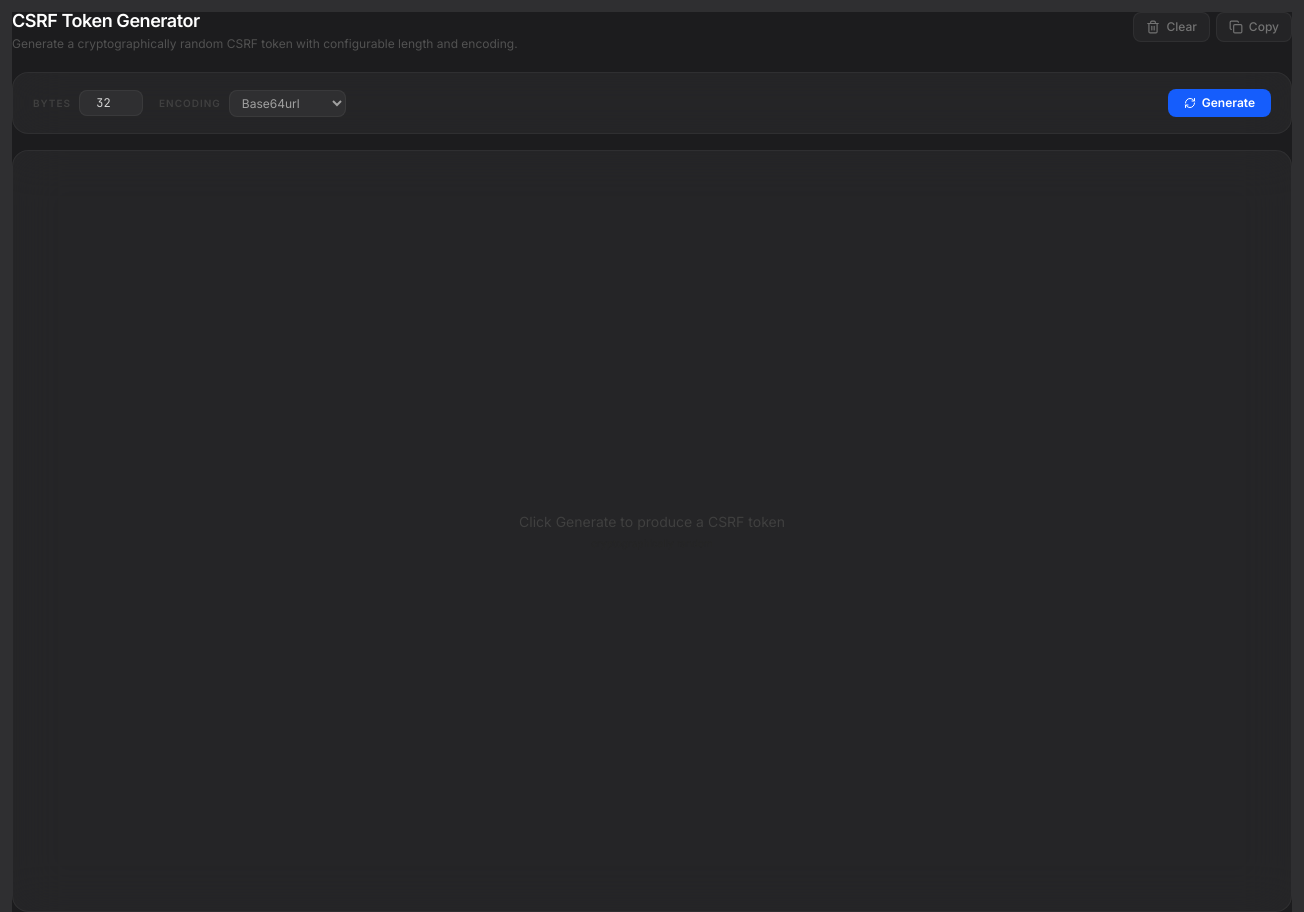
Test: CsrfTokenGenerator › clears the token
Click the button "Generate": (1219, 103) 1168,89 -> 1271,117
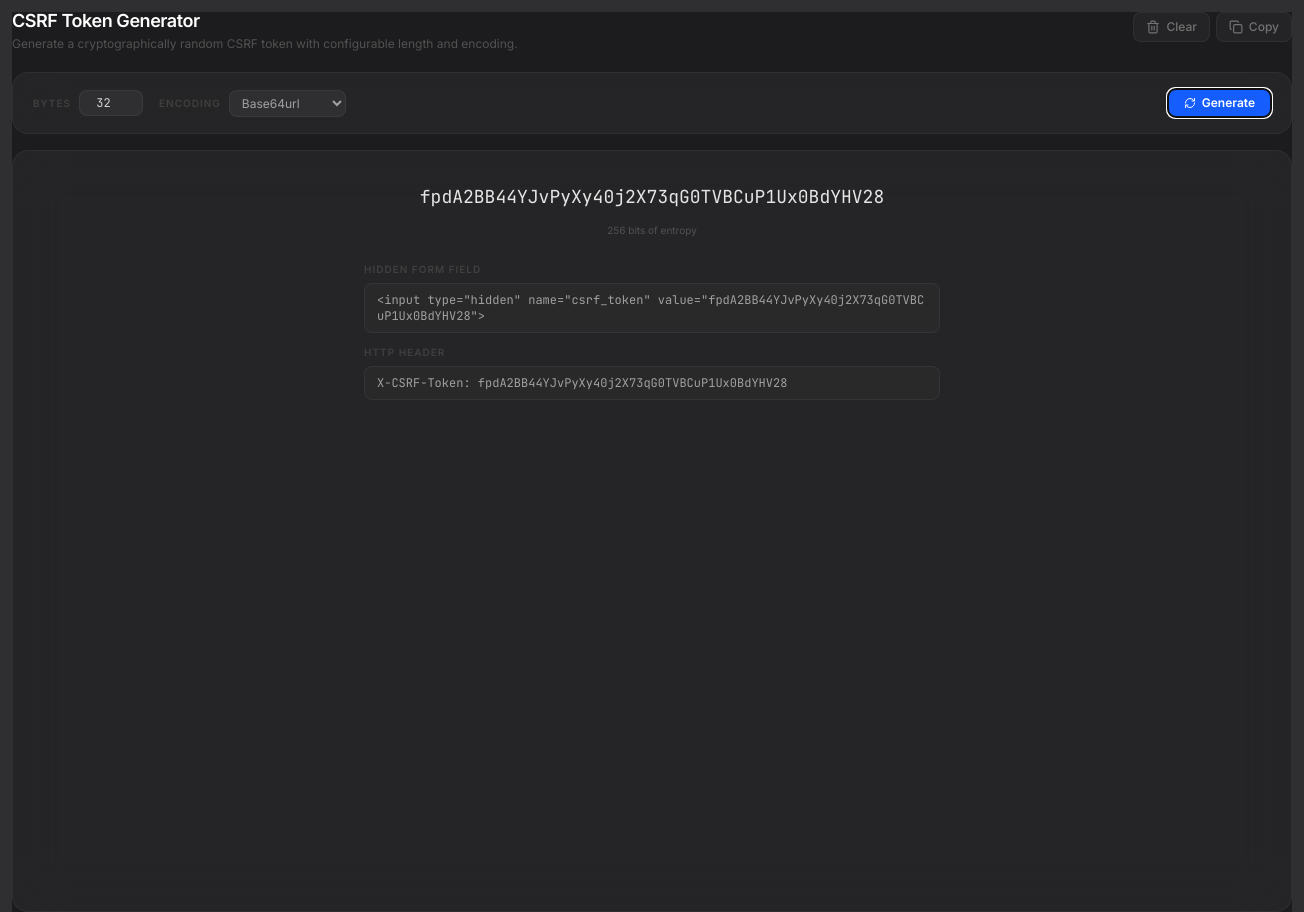
Click the button titled "Clear all": (1172, 27) 1133,12 -> 1210,42
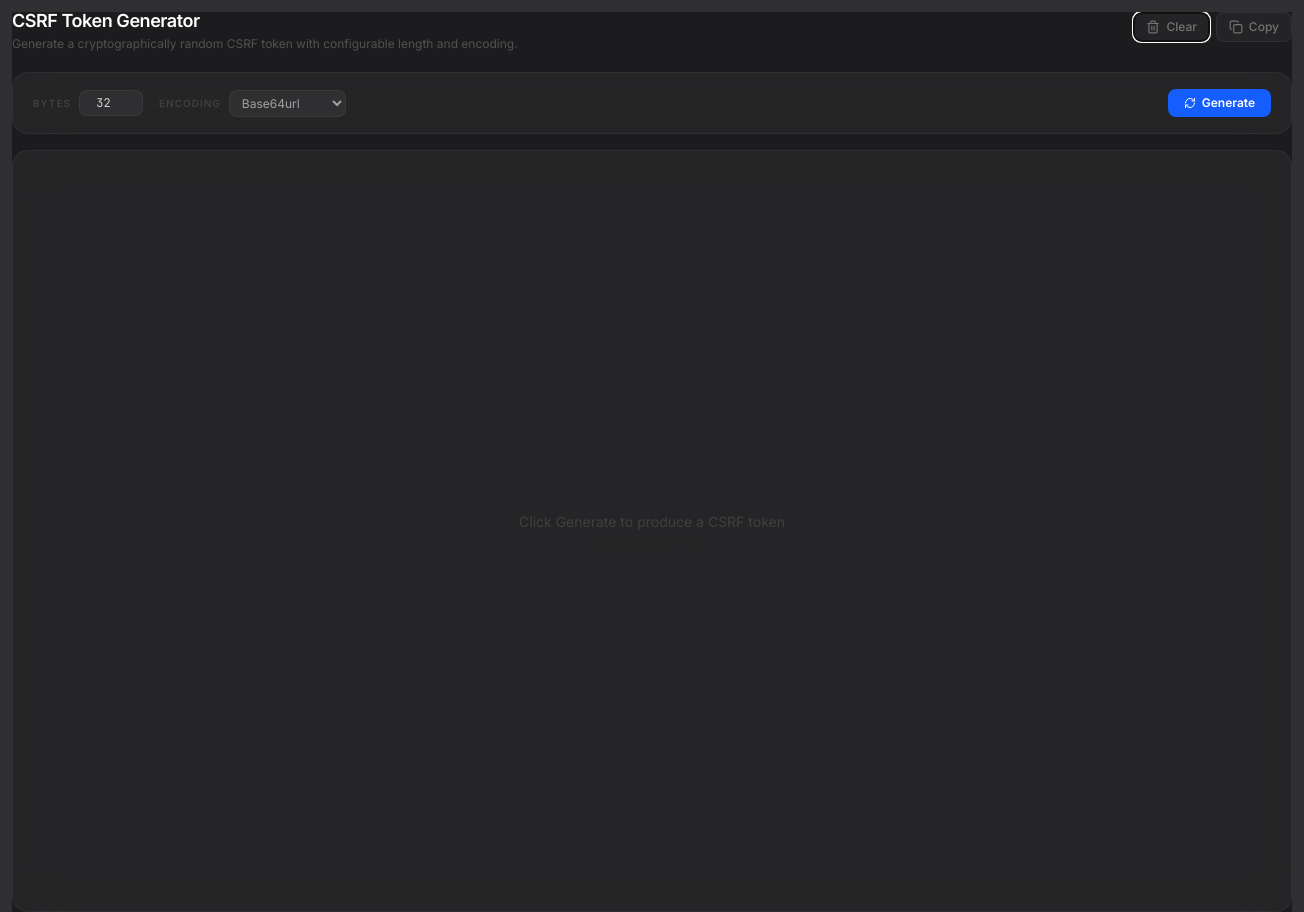
Expected: the text "Click Generate to produce a CSRF token" is shown, 519,512 -> 785,532
